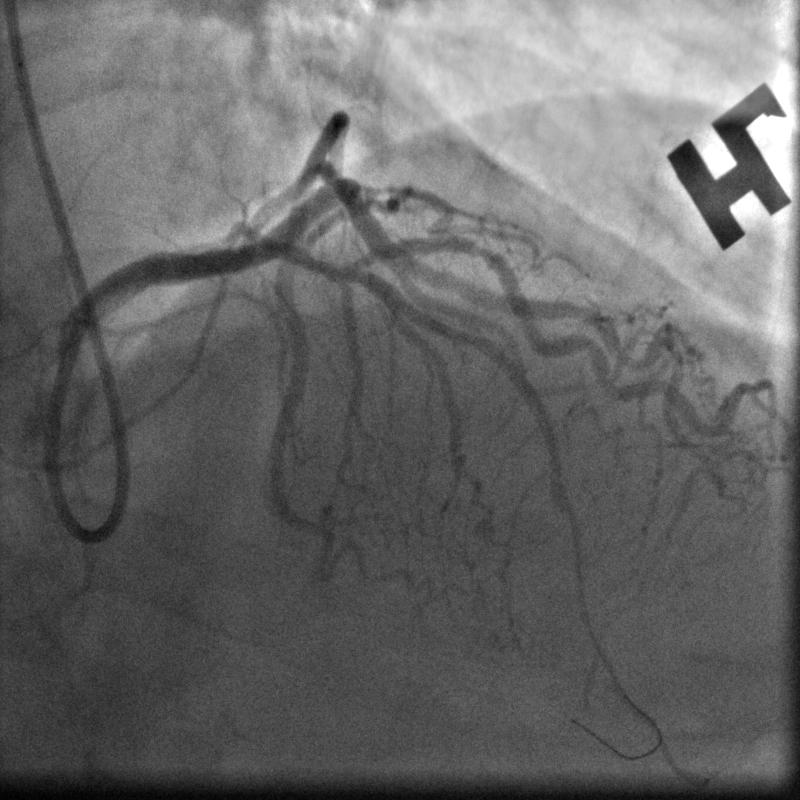Stenosis: (467, 229, 504, 269)
